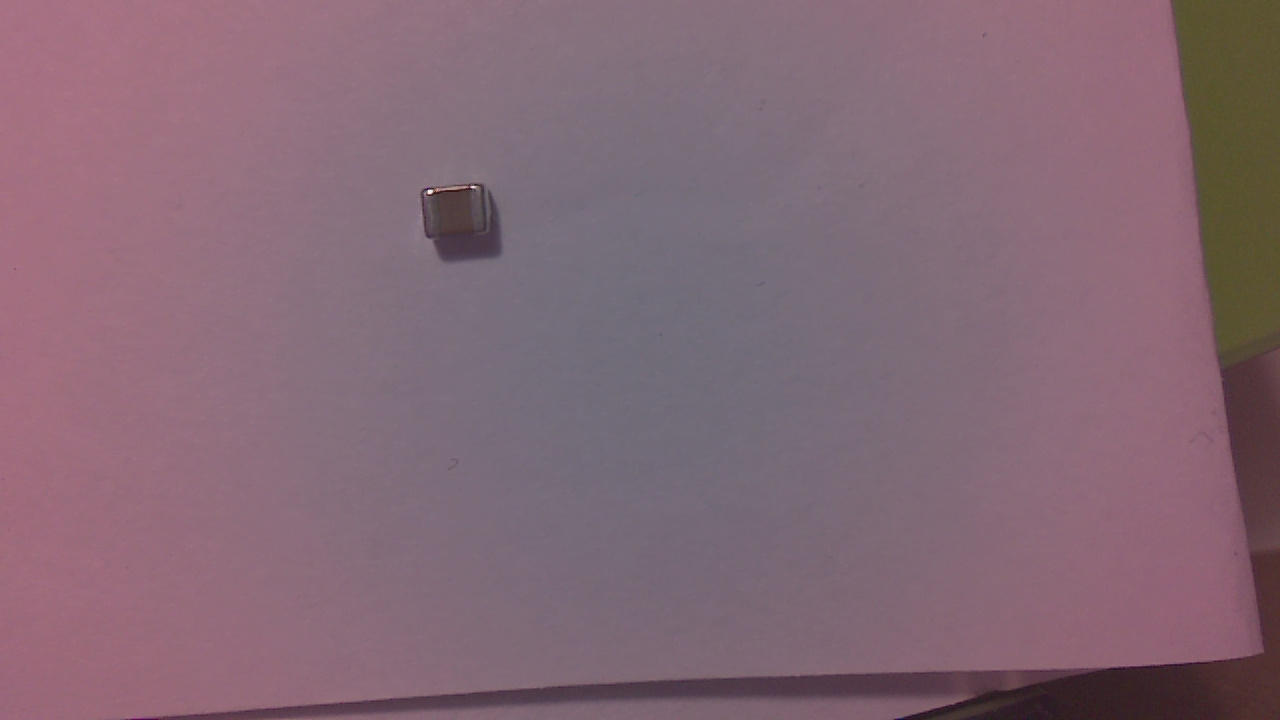Condensator: (423, 187, 501, 246)
